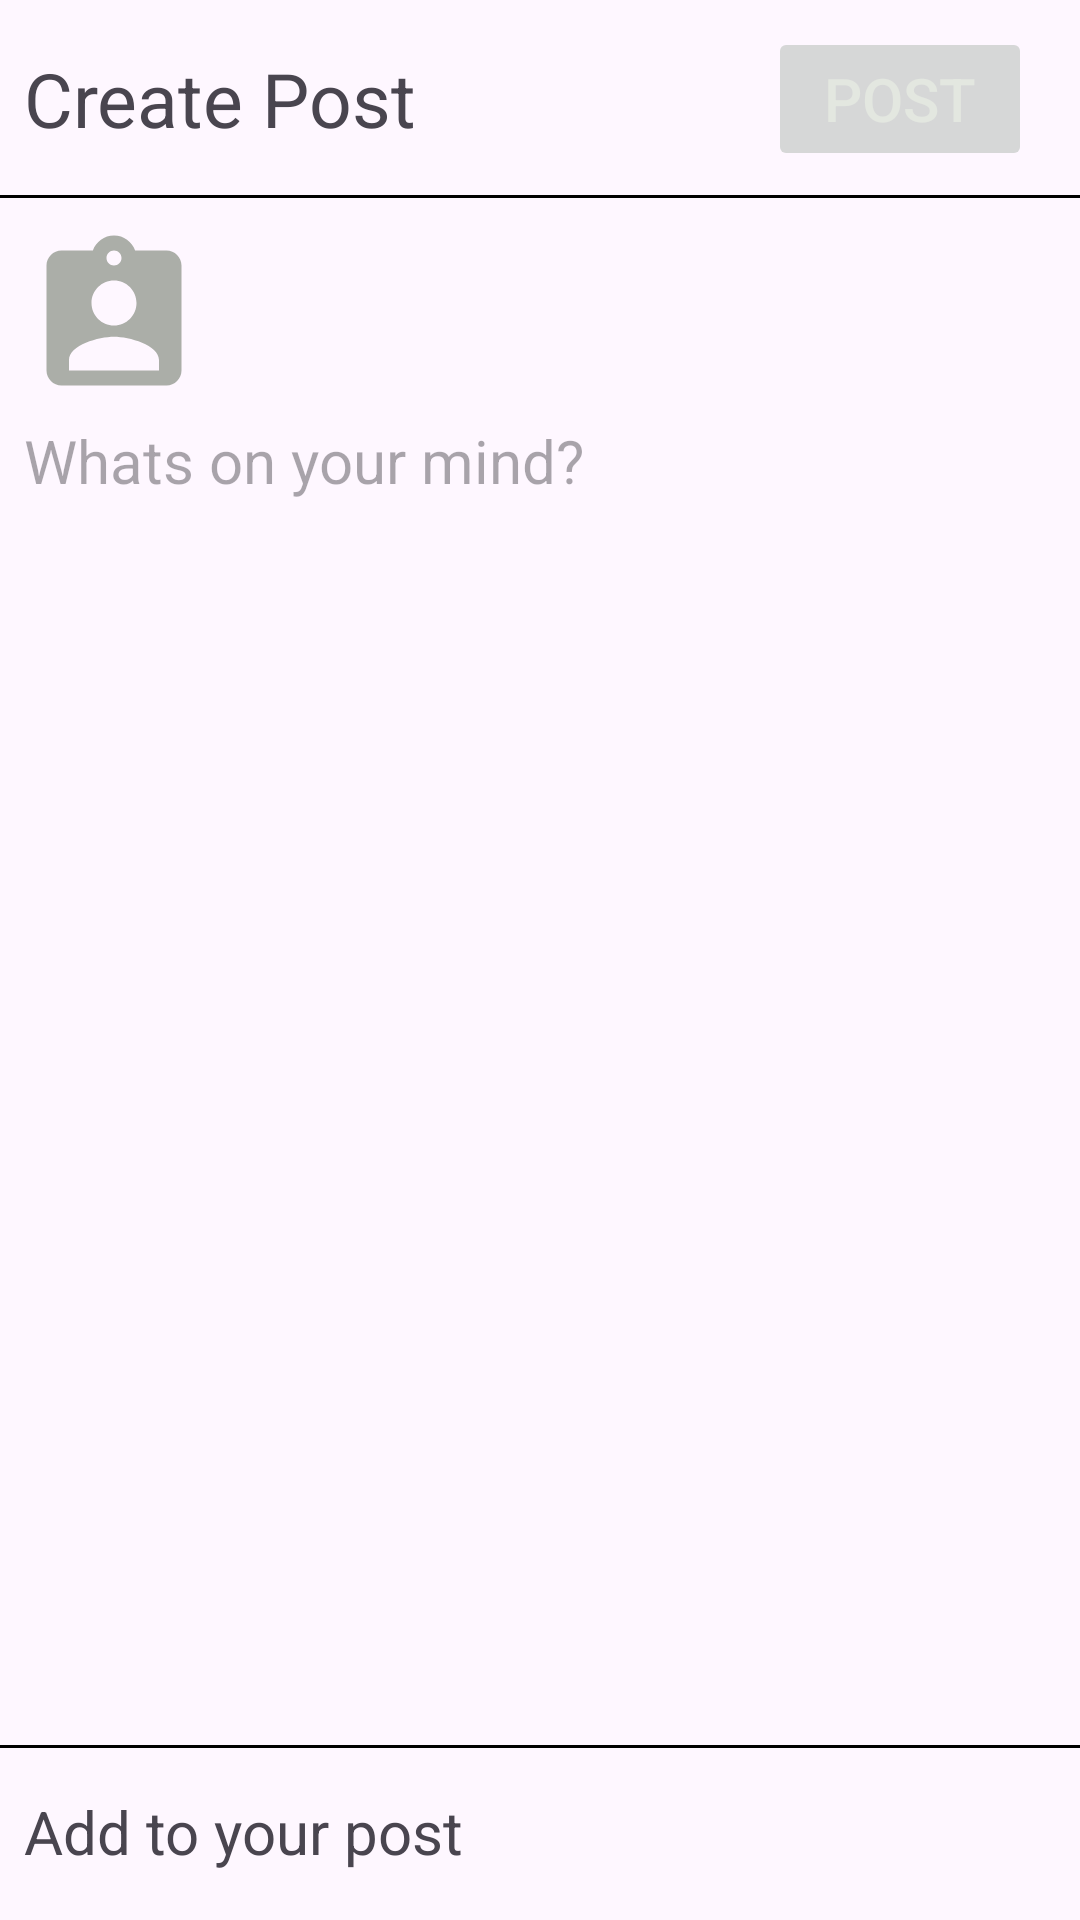

Where icons sit on this 1080 × 1920 app screen, as (x1,y1,x2,y2):
profileicon: (46,235,182,386)
